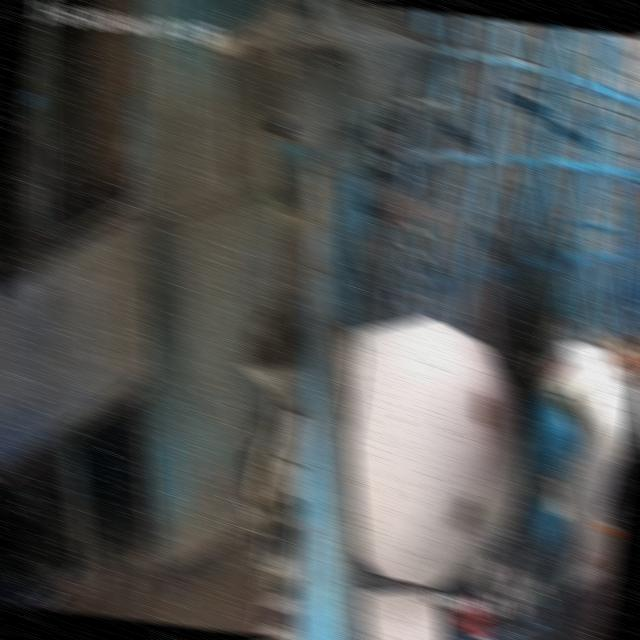cement_mixer_truck: (332, 316, 637, 640), (237, 308, 308, 637)
swing_chute: (264, 120, 364, 349)
